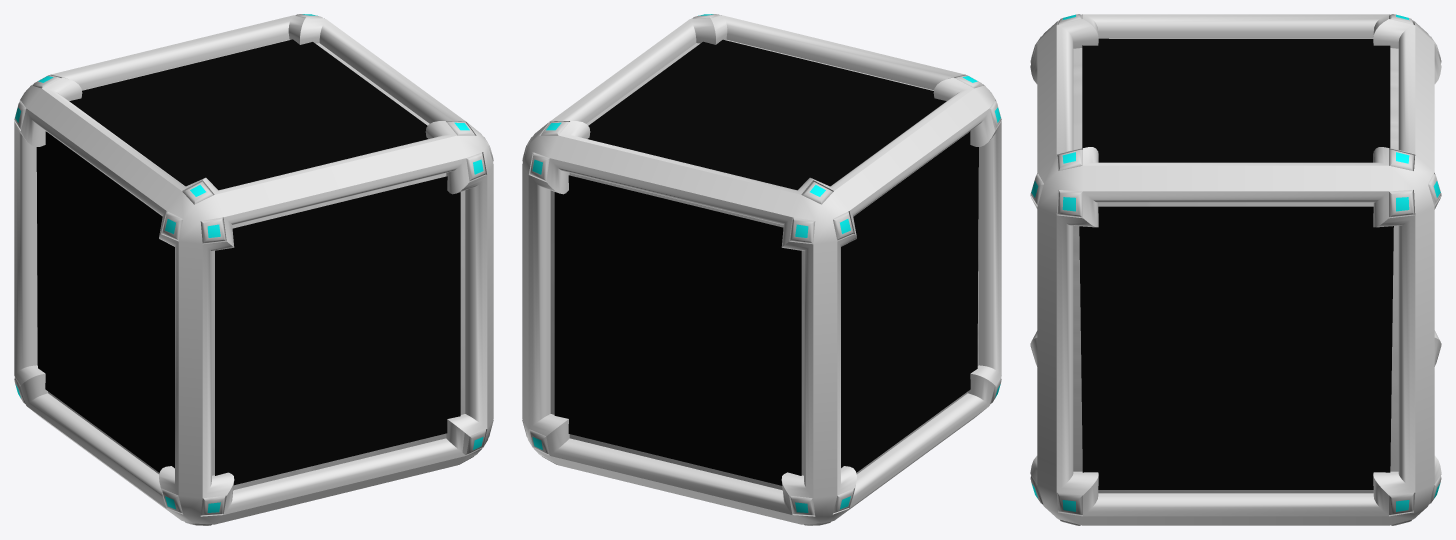
File: PowerCube.fbx
3 renders of one model, left to right at view 1: azimuth 30°, elevation 25°; view 2: azimuth 150°, elevation 25°; view 3: azimuth 270°, elevation 25°, orthographic. The views are drawn at different scales.
Visible parts, largest first — view 1: Cube; view 2: Cube; view 3: Cube.
Part boxes in pixels (x1,y1,x2,y2): Cube: [14, 14, 493, 525]; Cube: [522, 14, 1001, 525]; Cube: [1030, 14, 1441, 525].
Bounding box in the file's own units: 271 × 271 × 271.
4 materials, 3 textured.
